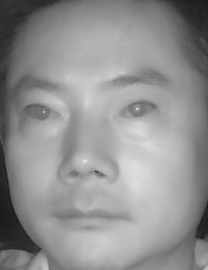eye: (18, 99, 64, 125), (115, 98, 159, 124)
mouth: (52, 194, 127, 237)
